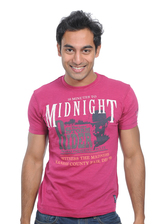clothoes: (18, 73, 144, 213)
